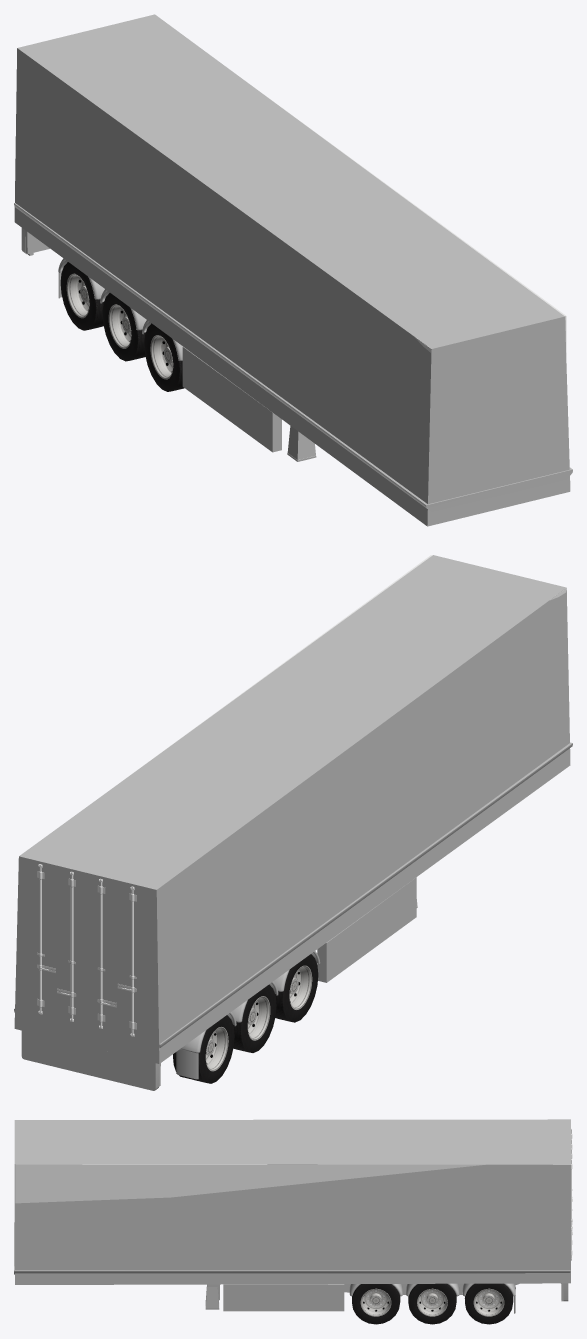
File: Trailer02.FBX
3 views of the same model, one above another, from view 1: azimuth 30°, elevation 25°; view 2: azimuth 150°, elevation 25°; view 3: azimuth 270°, elevation 25° (orthographic). The views are drawn at different scales.
Visible parts, largest first — view 1: Trailer2_Col, BodyTrailer_LOD0, WheelRearRight3_LOD0, WheelRearRight2_LOD0, WheelRearRight1_LOD0; view 2: Trailer2_Col, BodyTrailer_LOD0, BoxPaint_LOD0, WheelRearRight2_LOD0, WheelRearRight1_LOD0, WheelRearRight3_LOD0; view 3: Trailer2_Col, BoxPaint_LOD0, BodyTrailer_LOD0, WheelRearLeft3_LOD0, WheelRearLeft2_LOD0, WheelRearLeft1_LOD0.
Boxes of the visible parts, <box> form: Trailer2_Col: <box>14,14,570,526</box>; BodyTrailer_LOD0: <box>14,203,572,512</box>; WheelRearRight3_LOD0: <box>60,262,103,330</box>; WheelRearRight2_LOD0: <box>102,293,145,361</box>; WheelRearRight1_LOD0: <box>144,323,184,391</box>; Trailer2_Col: <box>14,555,570,1089</box>; BodyTrailer_LOD0: <box>14,742,572,1090</box>; BoxPaint_LOD0: <box>37,555,566,1036</box>; WheelRearRight2_LOD0: <box>233,984,276,1052</box>; WheelRearRight1_LOD0: <box>275,954,318,1022</box>; WheelRearRight3_LOD0: <box>173,1015,234,1083</box>; Trailer2_Col: <box>14,1119,570,1311</box>; BoxPaint_LOD0: <box>15,1128,572,1260</box>; BodyTrailer_LOD0: <box>14,1222,570,1313</box>; WheelRearLeft3_LOD0: <box>464,1283,513,1324</box>; WheelRearLeft2_LOD0: <box>408,1283,456,1324</box>; WheelRearLeft1_LOD0: <box>352,1284,400,1324</box>.
Size of what is drawn, in the model's own units: 2221 by 3418 by 10860.
